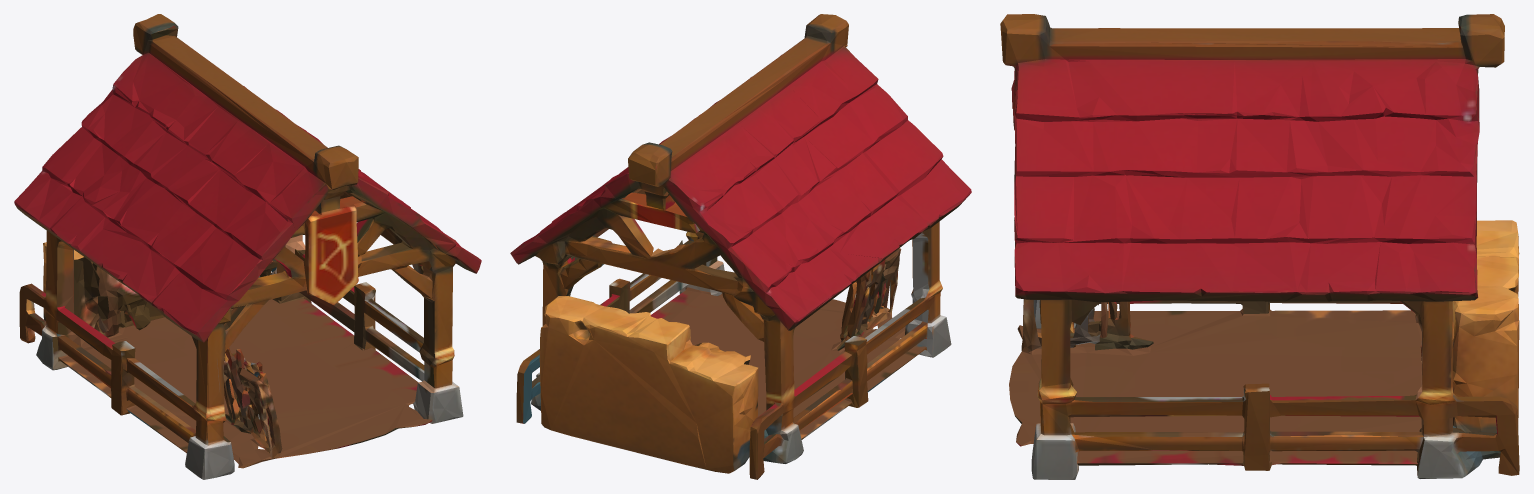
The model's file is kingdom_archery_range_1117.glb.
3 renders of one model, left to right at view 1: azimuth 30°, elevation 25°; view 2: azimuth 150°, elevation 25°; view 3: azimuth 270°, elevation 25°, orthographic. The views are drawn at different scales.
Visible parts, largest first — view 1: tmpm7fe2c_6.ply; view 2: tmpm7fe2c_6.ply; view 3: tmpm7fe2c_6.ply.
Boxes of the visible parts, left/top/right/bottom form: tmpm7fe2c_6.ply: left=14, top=14, right=481, bottom=479; tmpm7fe2c_6.ply: left=510, top=14, right=971, bottom=479; tmpm7fe2c_6.ply: left=1000, top=14, right=1519, bottom=479.
Size of the model in its own units: 1.65 by 1.61 by 1.99.
Materials: 1 (1 with a texture image).
